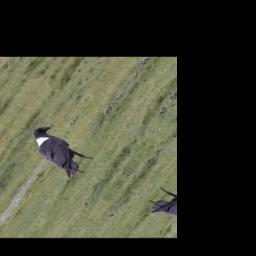Crow: (15, 122, 101, 181)
